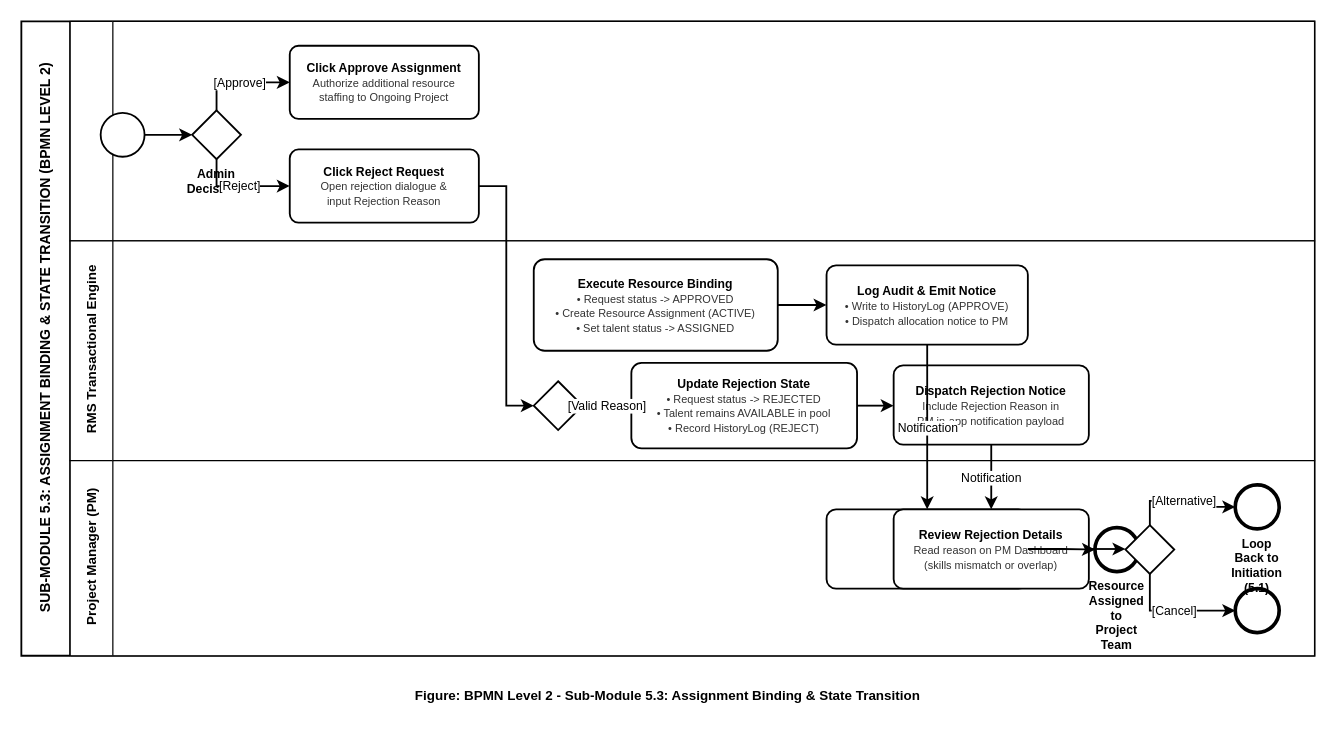
Image size: 1337x732. Some labels were removed from this diagram. Each missing label, with the box of its shape:
Admin (PMO): (69, 20, 1315, 241)
Alternative or Cancel?: (1124, 524, 1175, 574)
Capacity Check Completed: (99, 111, 145, 157)
Rejection Reason Provided?: (532, 380, 583, 430)
Request Withdrawn by PM: (1233, 586, 1280, 634)
View Updated Team Roster Candidate appears in Ongoing Project member roster: (825, 508, 1028, 589)
